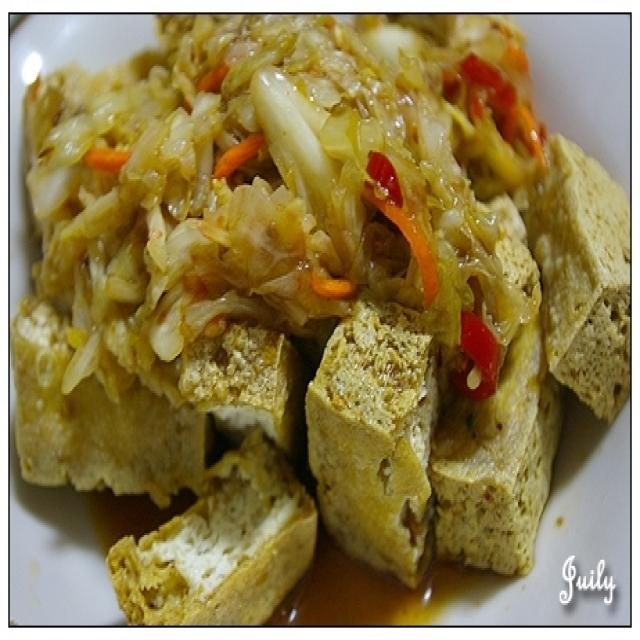豆腐料理: (11, 15, 628, 618)
